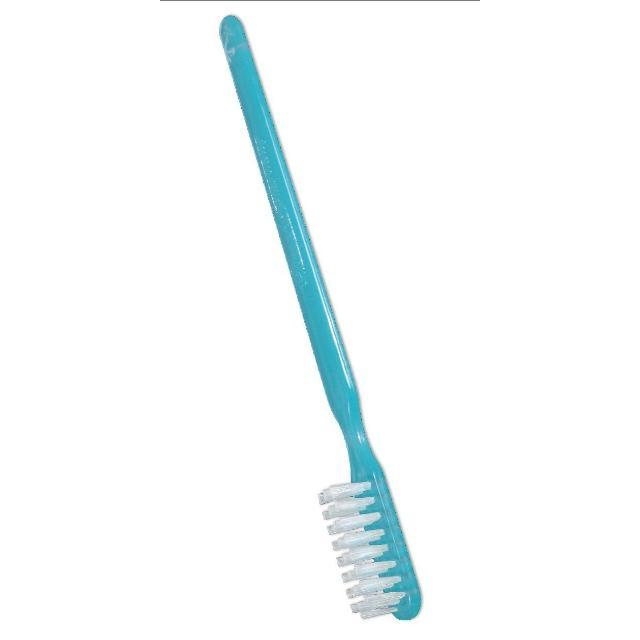toothbrush: (195, 0, 480, 640)
